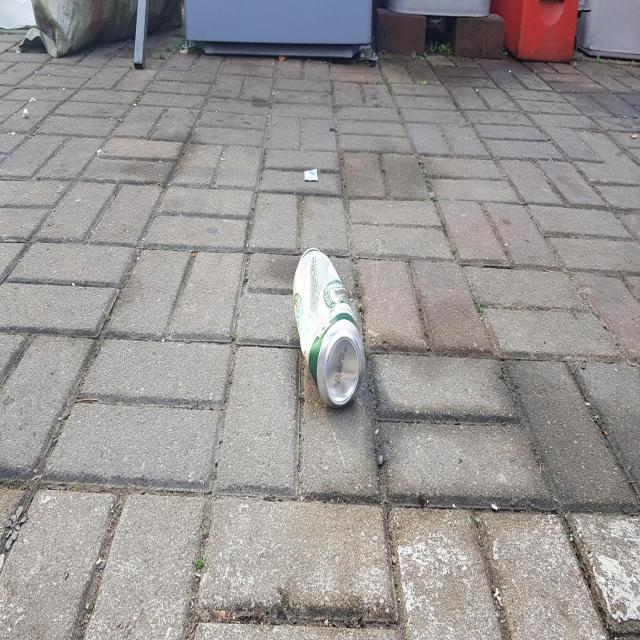can: (293, 247, 365, 407)
